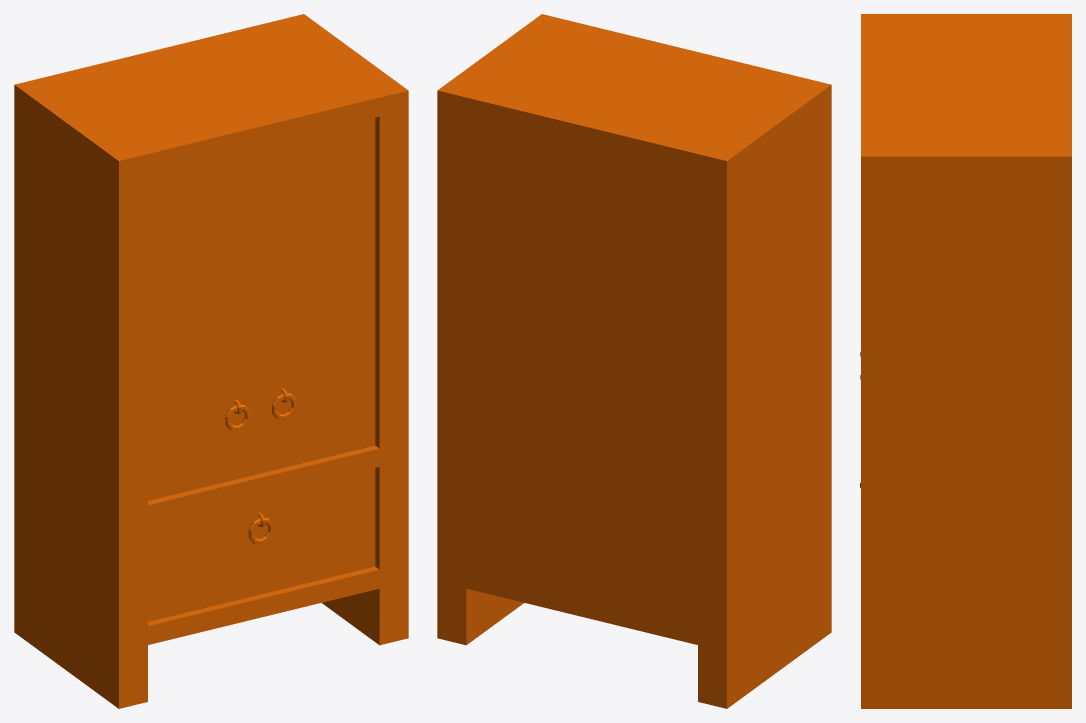
File: Kast.fbx
The picture shows the model from 3 angles, left to right: view 1: azimuth 30°, elevation 25°; view 2: azimuth 150°, elevation 25°; view 3: azimuth 270°, elevation 25°; orthographic projection.
Parts seen in each view (by area): view 1: Kast; view 2: Kast; view 3: Kast.
Part boxes in pixels (x1,y1,x2,y2): Kast: (14, 14, 408, 708); Kast: (437, 14, 831, 708); Kast: (860, 14, 1071, 708).
Size of the model in its own units: 0.8 by 1.45 by 0.5022.
